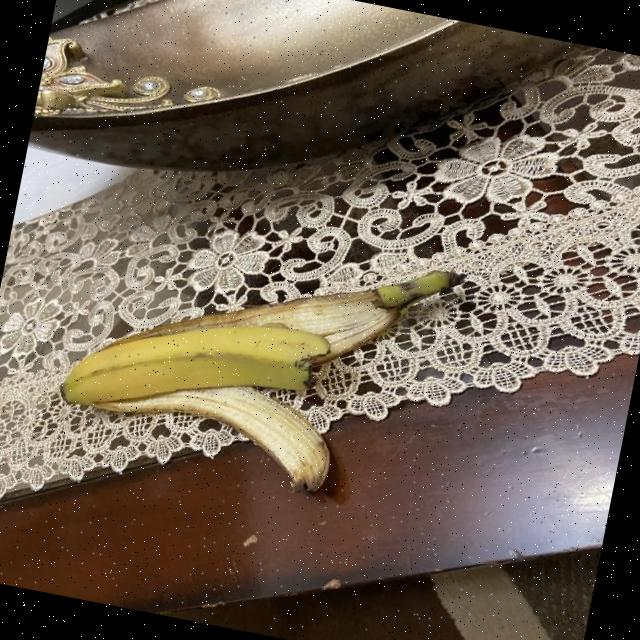banana-peel: (48, 201, 454, 513), (55, 284, 334, 452), (84, 356, 342, 499)
